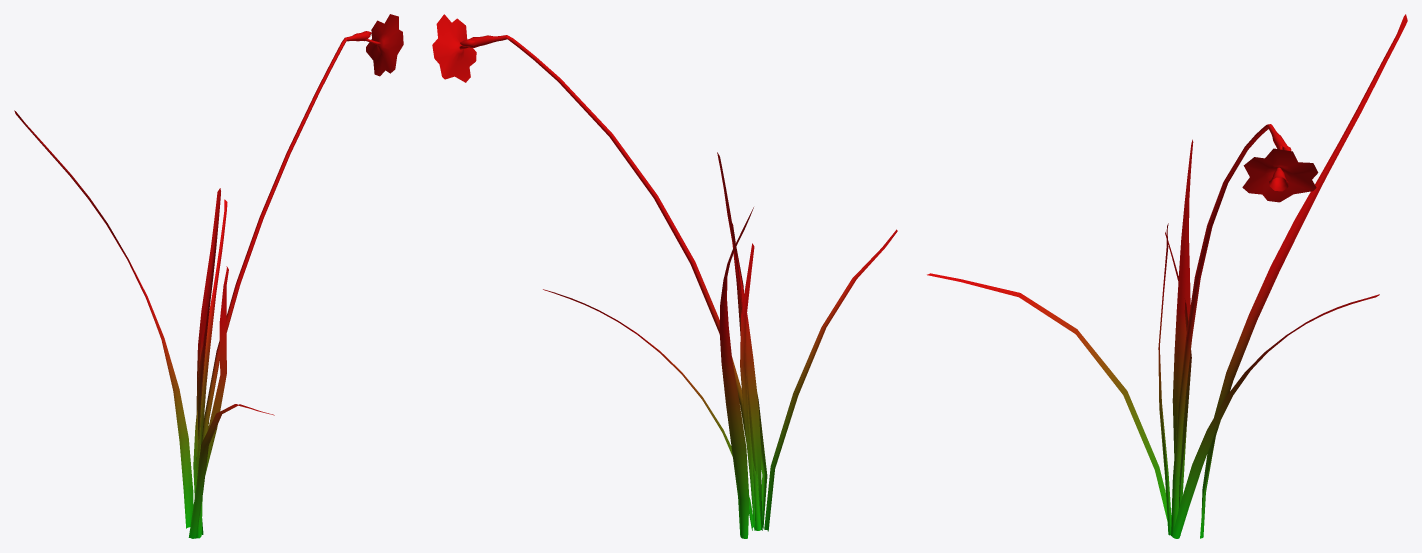
The model's file is Rush Daffodil_LOD1_Var15_wftgfjaia.fbx.
The picture shows the model from 3 angles, left to right: view 1: azimuth 30°, elevation 25°; view 2: azimuth 150°, elevation 25°; view 3: azimuth 270°, elevation 25°; orthographic projection. The views are drawn at different scales.
Visible parts, largest first — view 1: _6gm2_var15_LOD1; view 2: _6gm2_var15_LOD1; view 3: _6gm2_var15_LOD1.
Boxes of the visible parts, x1,y1,x2,y2 form: _6gm2_var15_LOD1: [14, 14, 403, 538]; _6gm2_var15_LOD1: [432, 14, 897, 538]; _6gm2_var15_LOD1: [927, 14, 1407, 538].
Size of the model in its own units: 23.42 by 29.25 by 23.97.
